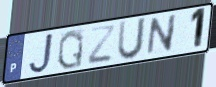1: (188, 5, 207, 51)
J: (27, 31, 55, 76)
N: (144, 13, 178, 58)
Q: (56, 27, 86, 71)
U: (115, 15, 149, 62)
Z: (86, 24, 117, 67)
